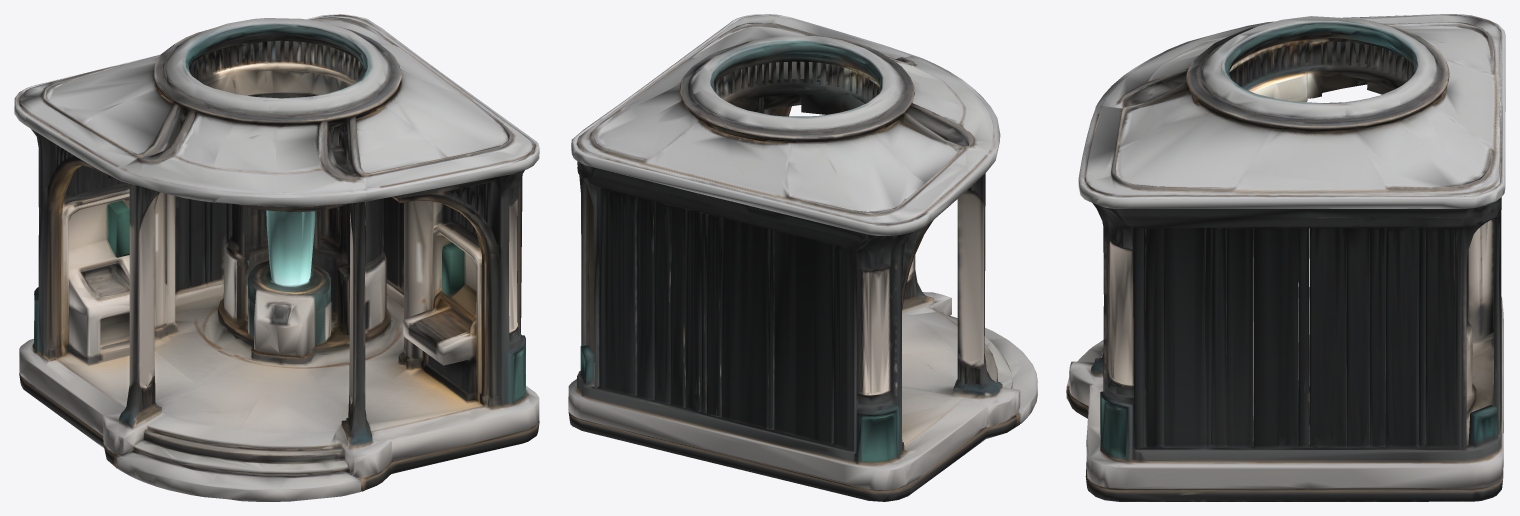
Rendered from passiona-ai-skill-workshop-pod.glb.
The picture shows the model from 3 angles, left to right: view 1: azimuth 30°, elevation 25°; view 2: azimuth 150°, elevation 25°; view 3: azimuth 270°, elevation 25°; orthographic projection. The views are drawn at different scales.
Visible parts, largest first — view 1: node_0; view 2: node_0; view 3: node_0.
Part boxes in pixels (x1=…): node_0: x1=14, y1=14, x2=539, y2=501; node_0: x1=568, y1=14, x2=1037, y2=501; node_0: x1=1066, y1=14, x2=1505, y2=501.
Bounding box in the file's own units: 0.7489 × 0.6704 × 0.7468.
Materials: 1 (1 with a texture image).
